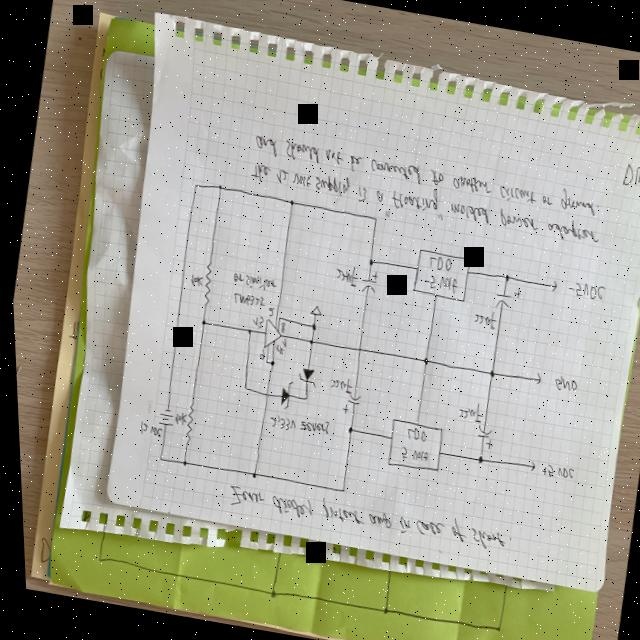capacitor: (489, 282, 519, 310), (468, 422, 491, 450), (335, 390, 358, 416), (354, 268, 375, 294)
crossover: (259, 389, 266, 398), (352, 345, 358, 352)
diode: (291, 364, 315, 388), (272, 378, 290, 410)
ground: (305, 302, 319, 316)
junction: (470, 453, 480, 464), (304, 320, 314, 331), (416, 354, 425, 364), (333, 484, 342, 494), (368, 213, 377, 223), (284, 197, 293, 206), (483, 368, 491, 378), (499, 271, 507, 281), (363, 256, 371, 266), (303, 336, 311, 346), (175, 458, 183, 467), (151, 453, 159, 462), (341, 424, 348, 434), (245, 469, 252, 479), (297, 394, 305, 402), (236, 383, 244, 391), (195, 317, 202, 326), (189, 180, 196, 188), (242, 326, 248, 335), (214, 182, 220, 190), (265, 358, 271, 366), (260, 359, 263, 363), (274, 315, 277, 319)
resistor: (194, 260, 213, 304), (176, 400, 194, 444)
source: (149, 403, 174, 431)
terminal: (545, 278, 555, 292), (521, 459, 531, 472), (529, 371, 538, 384)
text: (242, 153, 601, 255), (248, 130, 601, 218), (219, 479, 515, 559), (227, 270, 274, 292), (562, 278, 602, 301), (418, 270, 456, 294), (227, 288, 263, 310), (533, 460, 570, 481), (329, 262, 357, 288), (451, 398, 481, 422), (467, 306, 494, 330), (293, 415, 326, 434), (394, 444, 425, 464), (263, 412, 292, 432), (323, 374, 350, 394), (549, 374, 575, 394), (423, 252, 449, 272), (131, 420, 158, 438), (400, 424, 422, 442), (185, 272, 200, 288), (168, 410, 182, 426), (247, 313, 261, 328), (261, 303, 272, 318), (268, 342, 281, 354), (253, 348, 262, 361), (274, 320, 283, 332), (276, 336, 283, 346)
